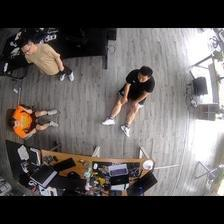fall: (101, 67, 156, 137)
normal: (17, 36, 73, 82), (7, 103, 59, 139)
